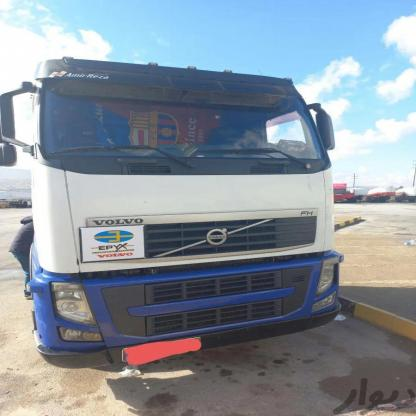Truck: (0, 58, 360, 360), (332, 184, 361, 202)
